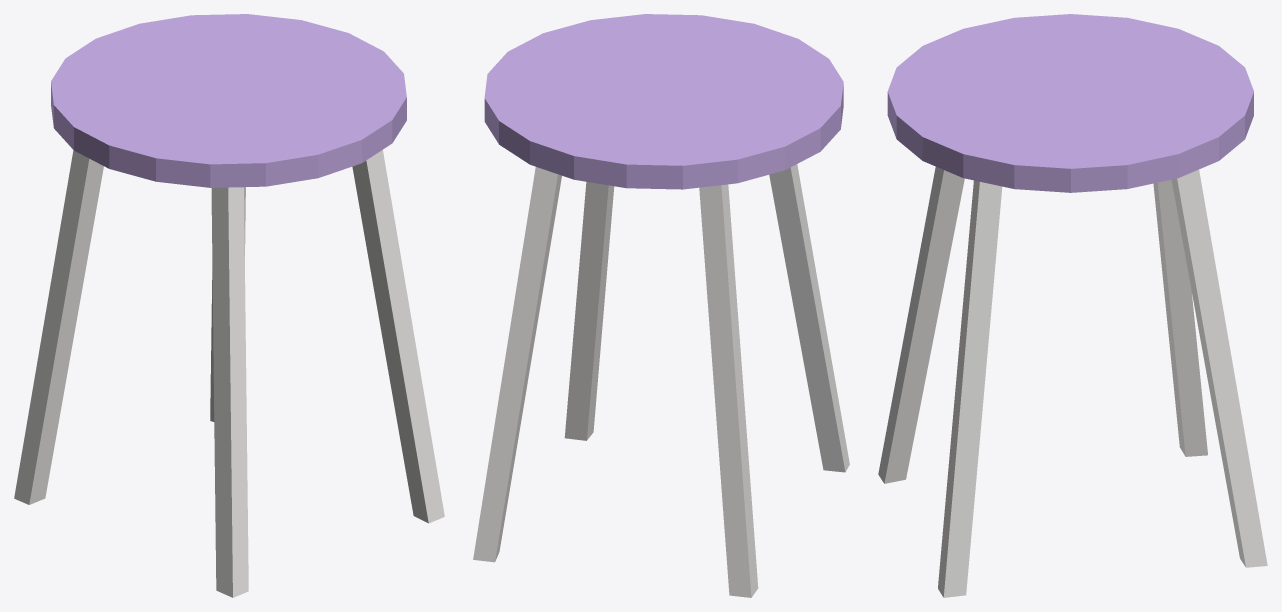
Rendered from Stool_5.fbx.
The picture shows the model from 3 angles, left to right: view 1: azimuth 30°, elevation 25°; view 2: azimuth 150°, elevation 25°; view 3: azimuth 270°, elevation 25°; orthographic projection. The views are drawn at different scales.
Parts seen in each view (by area): view 1: Stool_5; view 2: Stool_5; view 3: Stool_5.
Part boxes in pixels (x1=…): Stool_5: x1=14, y1=14, x2=444, y2=597; Stool_5: x1=473, y1=14, x2=849, y2=597; Stool_5: x1=878, y1=14, x2=1267, y2=597.
Bounding box in the file's own units: 70.68 × 75.13 × 91.46.
